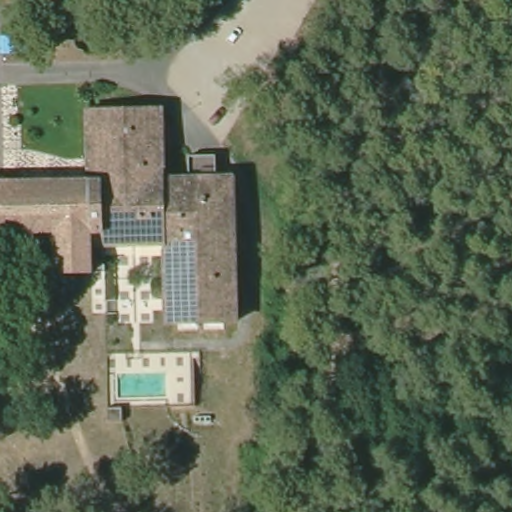pool: (112, 362, 177, 404)
